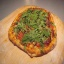basil: (23, 25, 50, 43), (23, 12, 47, 29), (14, 21, 24, 37)
pizza: (8, 7, 57, 56)
